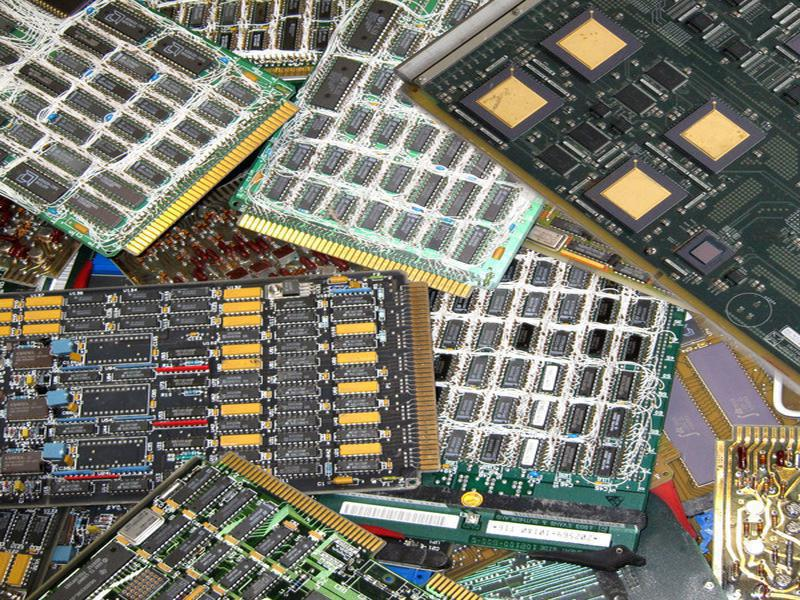circuit_board: (387, 2, 800, 394), (1, 264, 450, 494), (413, 257, 681, 580), (1, 1, 303, 263), (17, 453, 490, 600), (694, 406, 800, 600)
